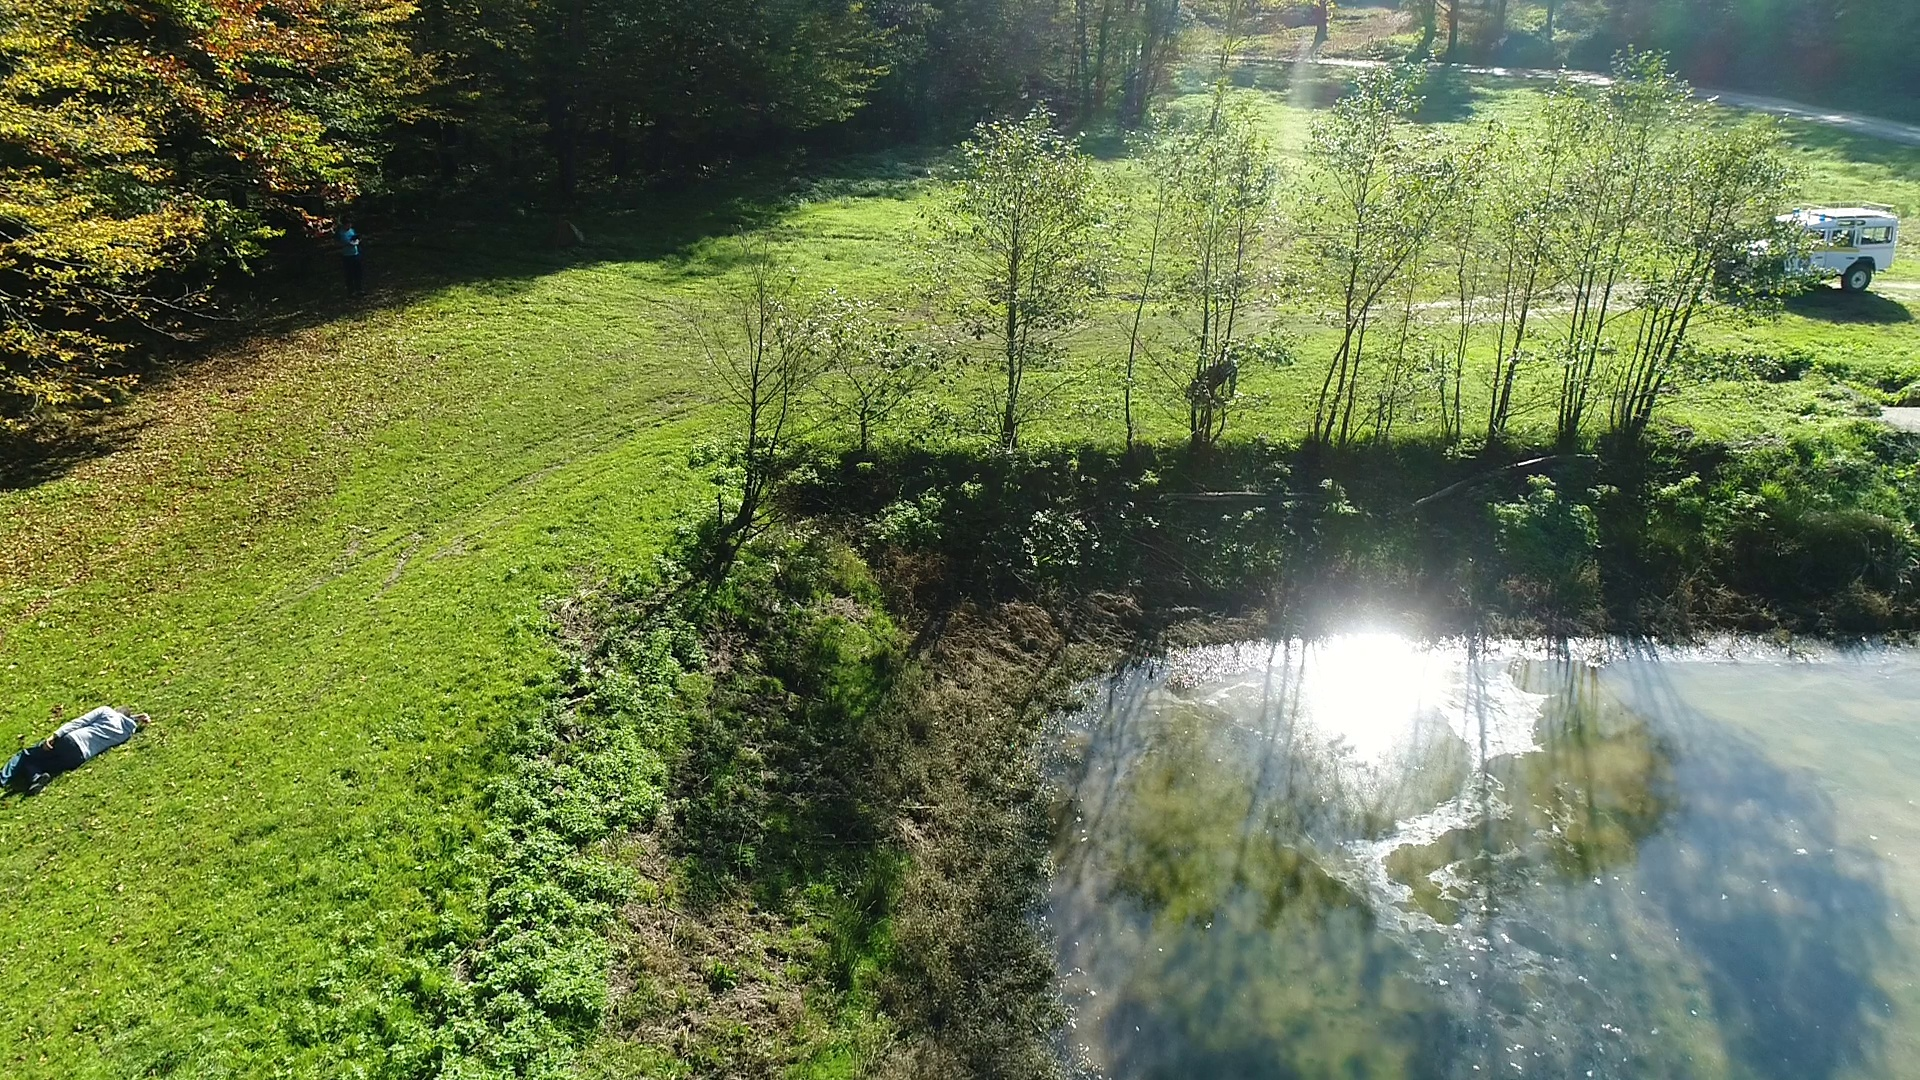not_defined: (1189, 353, 1240, 404)
person: (1, 704, 150, 800), (338, 218, 368, 297)
